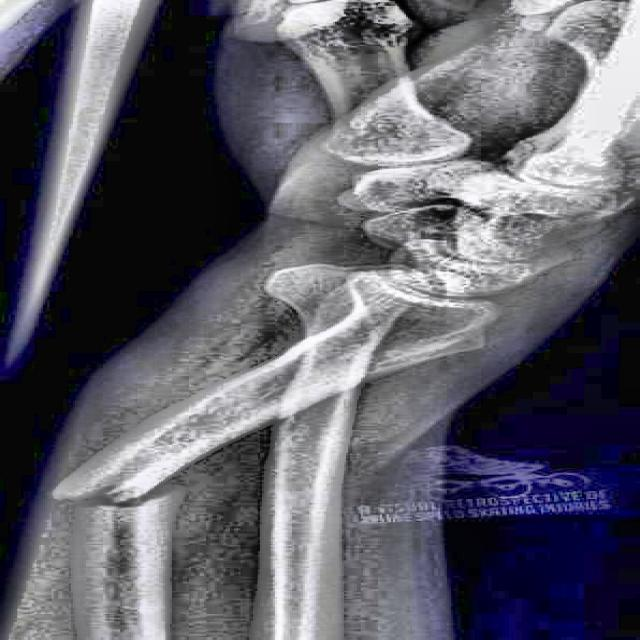fracture: (61, 484, 166, 515)
